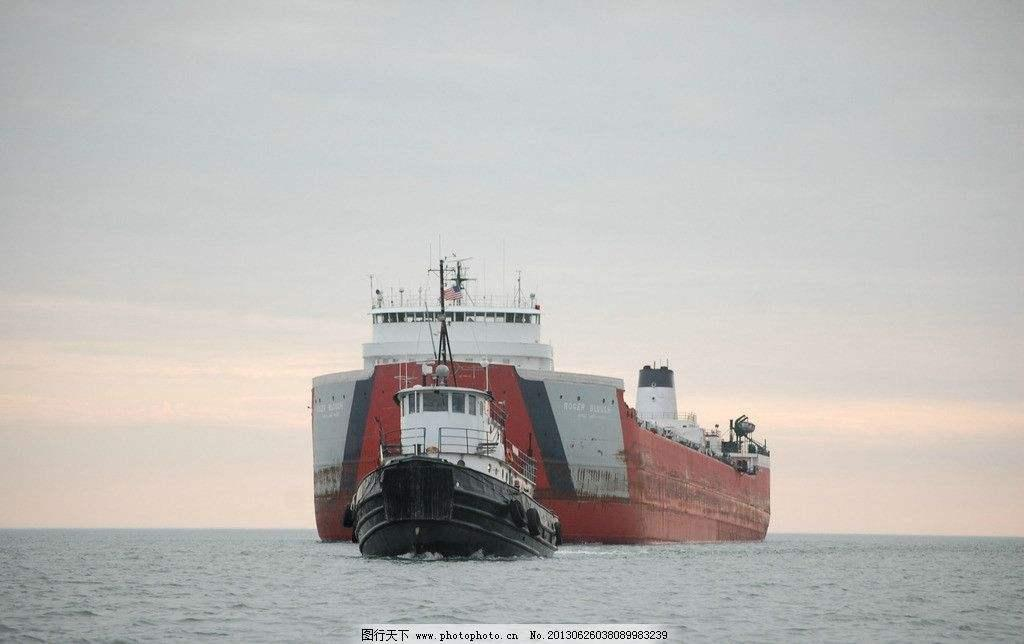Cargoship: (308, 256, 806, 533)
otherboat: (333, 363, 560, 556)
